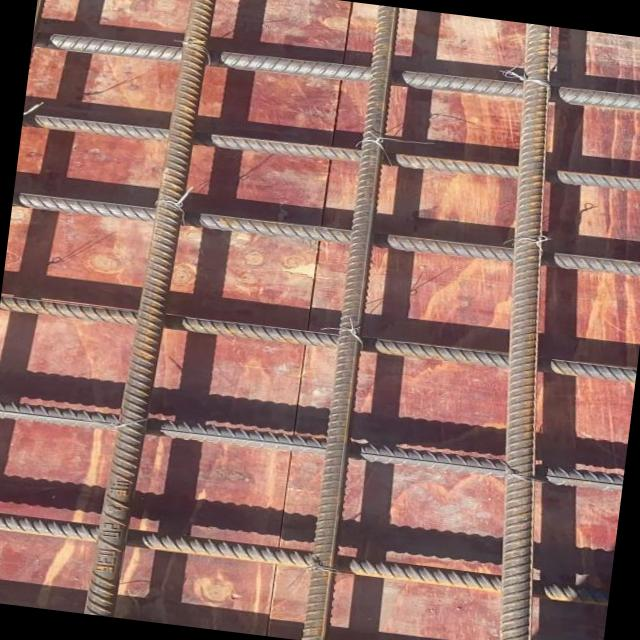ribbed bar: (445, 22, 608, 640), (80, 0, 217, 619), (294, 4, 404, 640), (32, 18, 640, 125), (0, 288, 635, 389), (21, 102, 640, 205), (11, 183, 640, 284), (0, 395, 622, 494), (0, 508, 609, 608)
